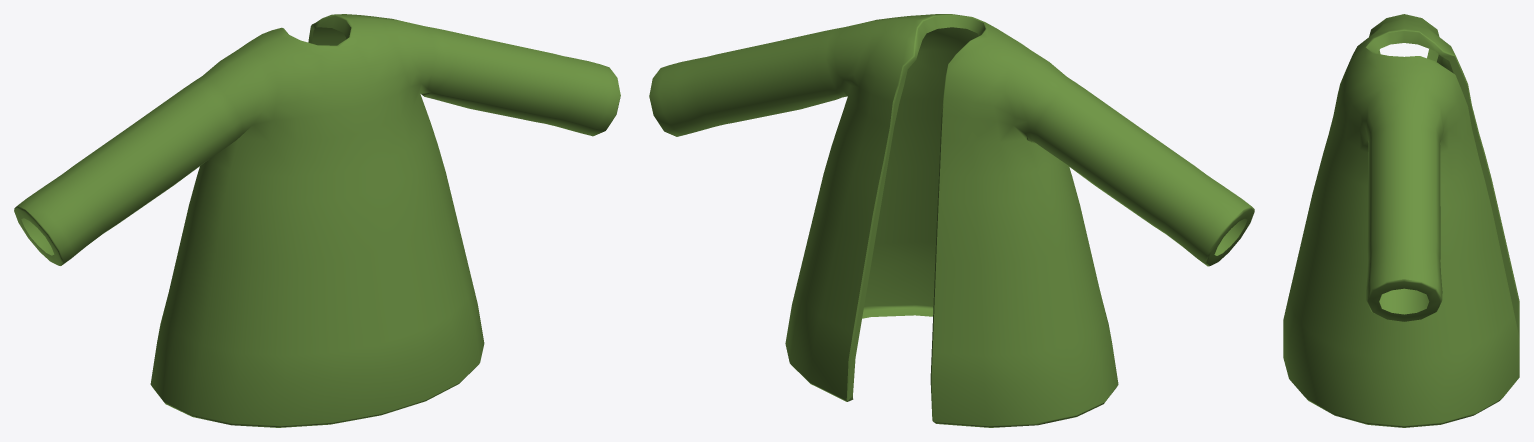
File: Jacket_01_mesh.fbx
3 renders of one model, left to right at view 1: azimuth 30°, elevation 25°; view 2: azimuth 150°, elevation 25°; view 3: azimuth 270°, elevation 25°, orthographic. The views are drawn at different scales.
Parts seen in each view (by area): view 1: Jacket_01_mesh; view 2: Jacket_01_mesh; view 3: Jacket_01_mesh.
Boxes of the visible parts, x1,y1,x2,y2 form: Jacket_01_mesh: [14, 14, 620, 427]; Jacket_01_mesh: [649, 14, 1254, 427]; Jacket_01_mesh: [1283, 14, 1519, 427].
Bounding box in the file's own units: 55.13 × 30.89 × 20.76.
